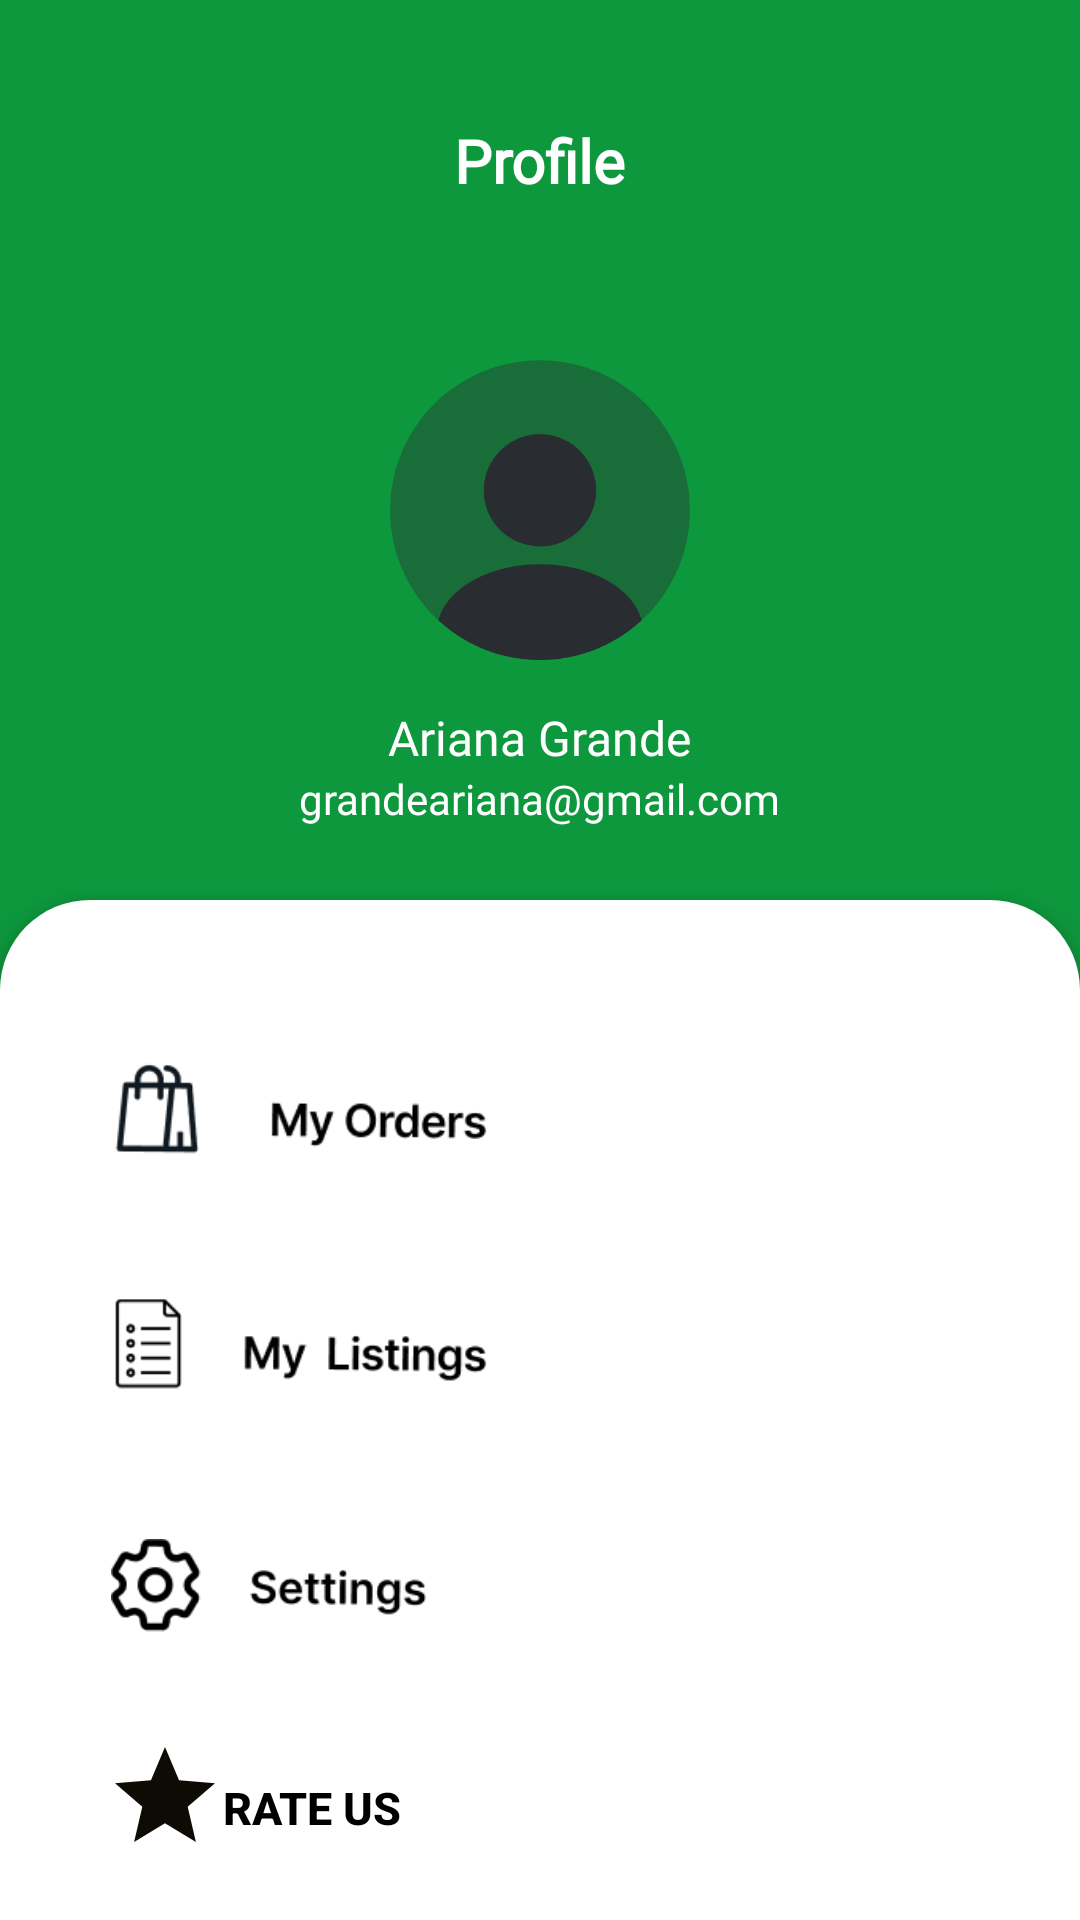

Where to tap for icons on this 1080×1920 app screen, as point (x, y):
star: point (183, 1794)
